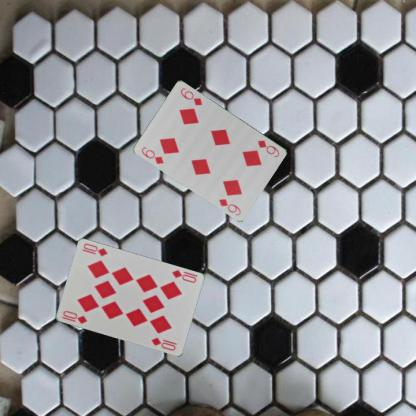10d: (59, 308, 88, 325), (169, 267, 198, 284)
6d: (139, 144, 165, 166), (255, 138, 281, 158)
